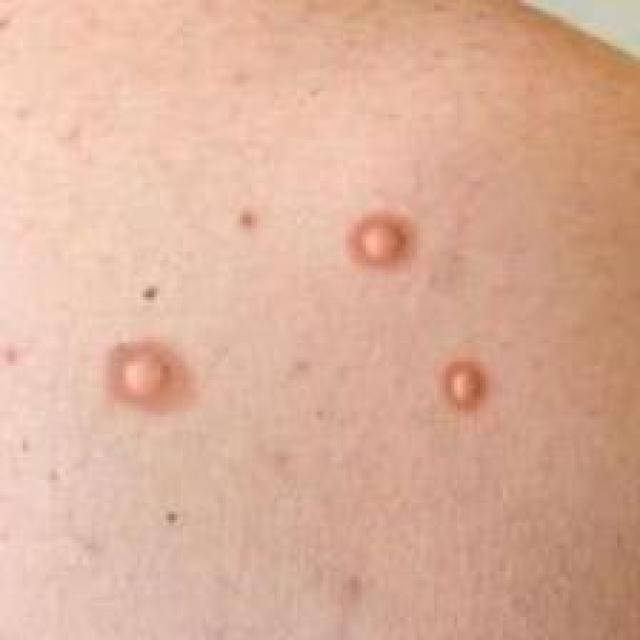monkeypox: (33, 136, 605, 604)
